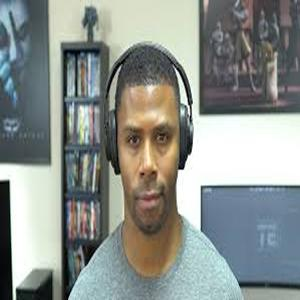Headphones: (102, 44, 195, 176)
